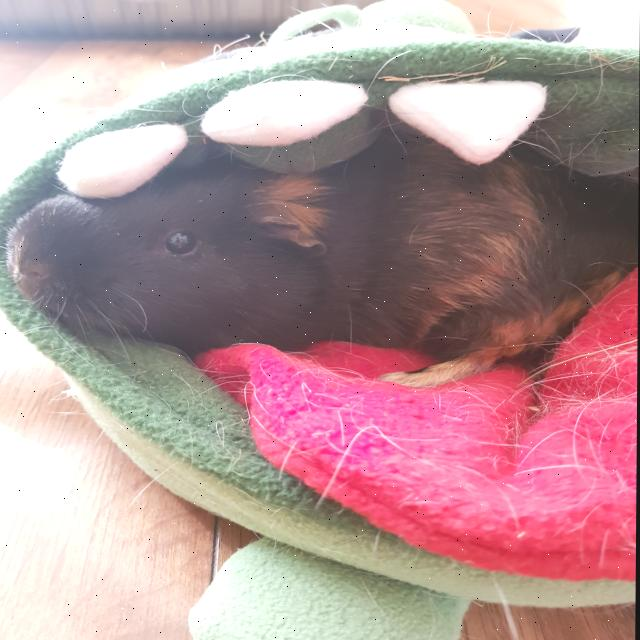guinea pig: (1, 113, 633, 397)
